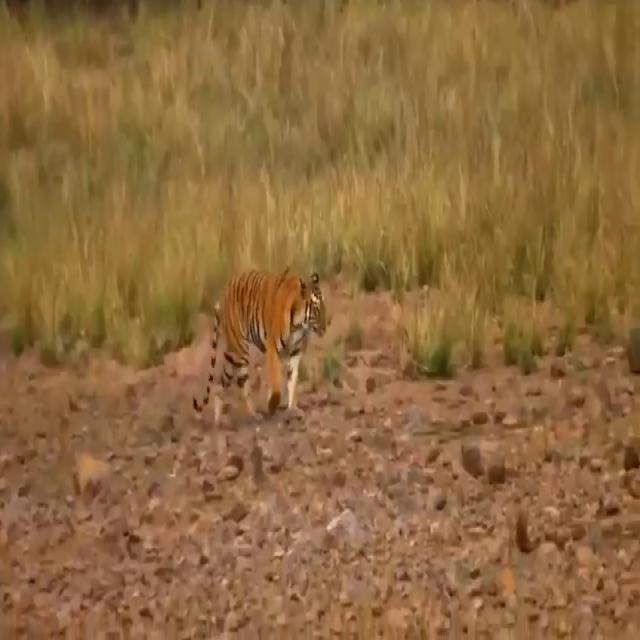tiger: (192, 267, 327, 424)
